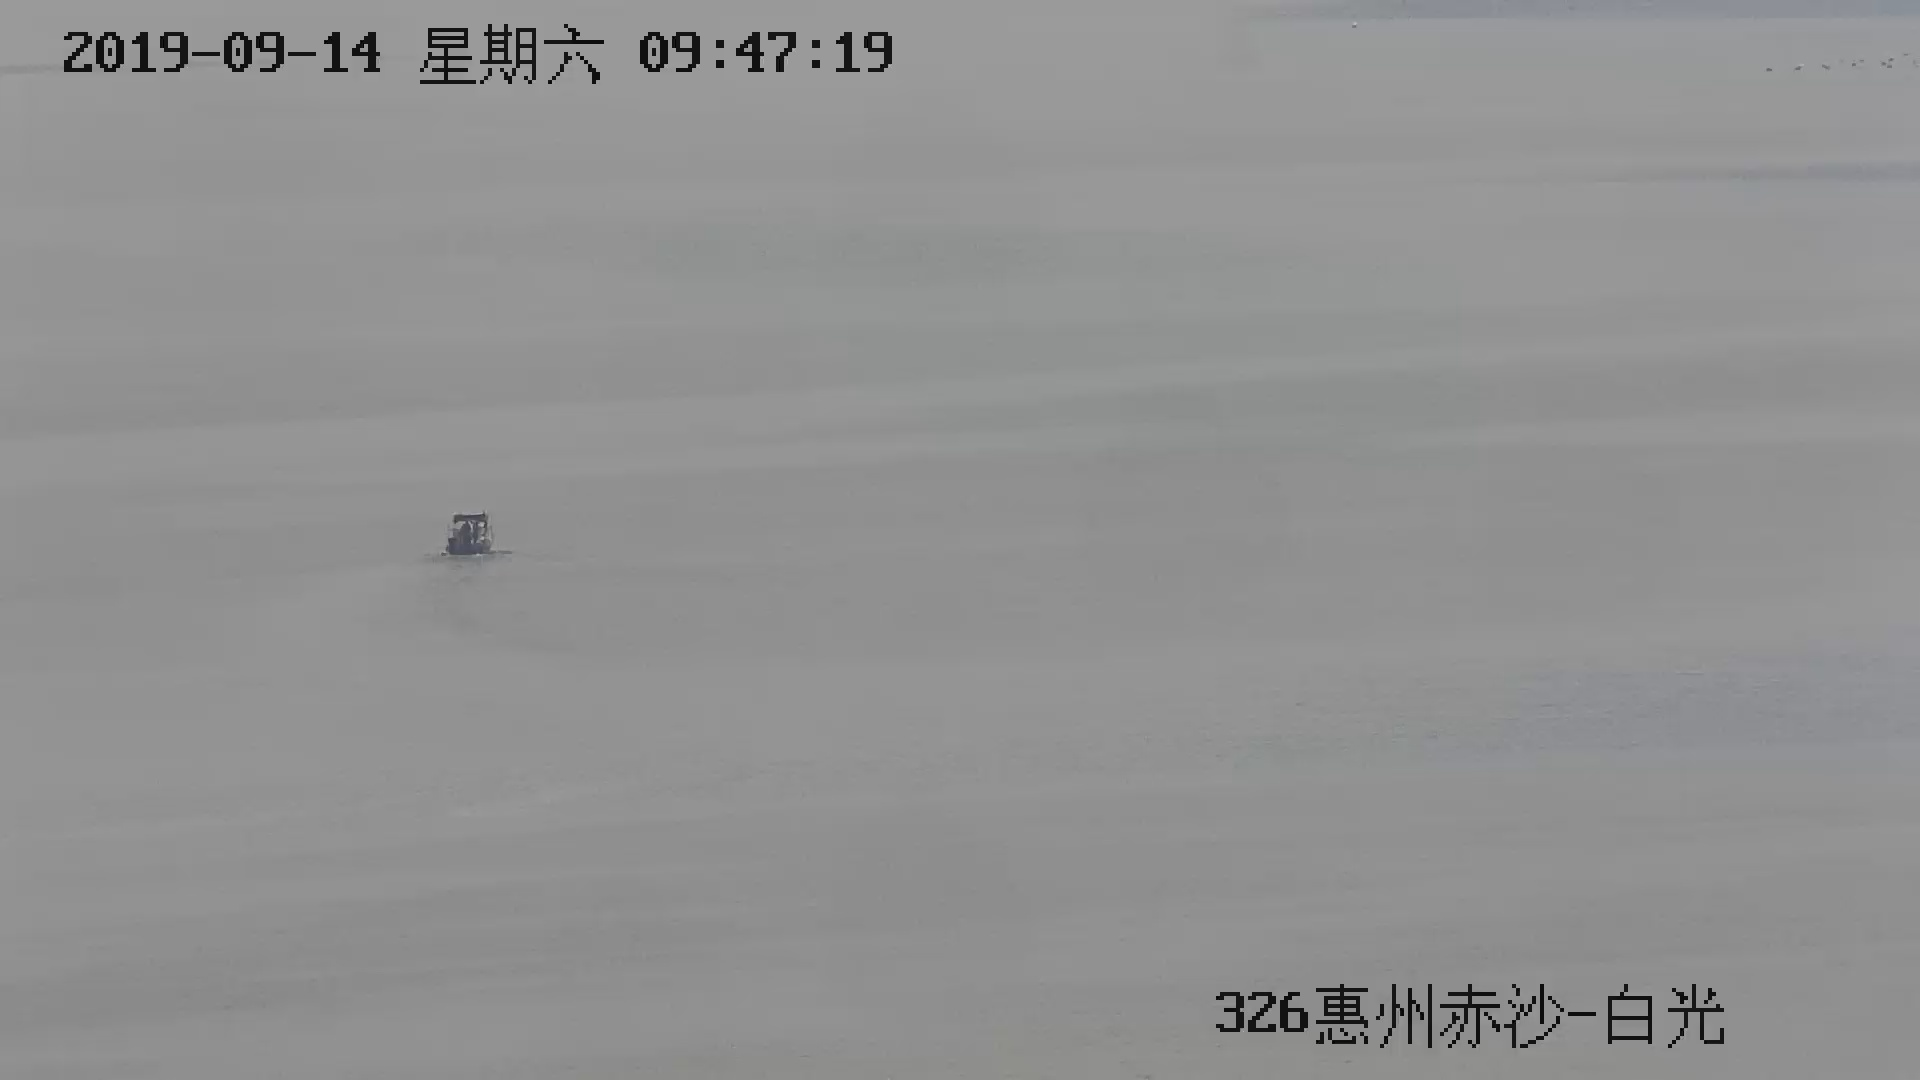ship: (443, 512, 495, 558)
